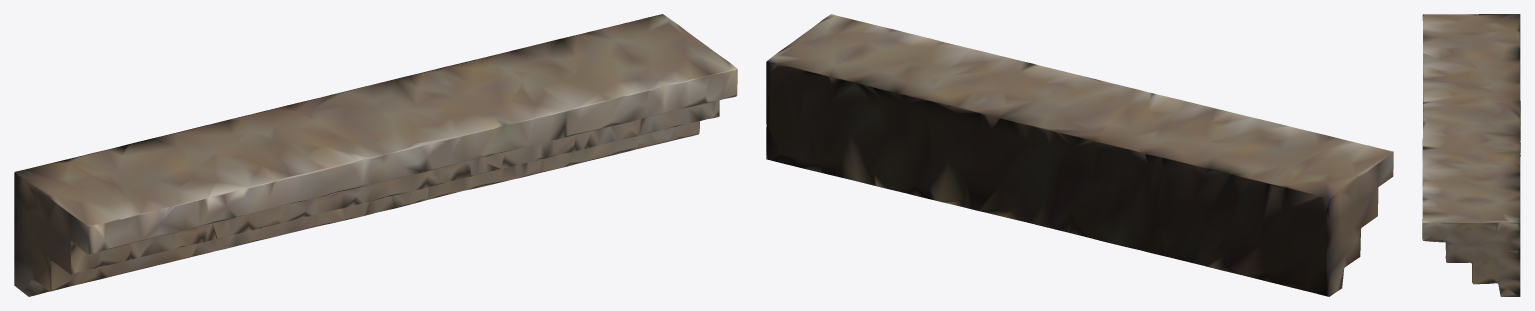
The model's file is gabion-wall.glb.
The picture shows the model from 3 angles, left to right: view 1: azimuth 30°, elevation 25°; view 2: azimuth 150°, elevation 25°; view 3: azimuth 270°, elevation 25°; orthographic projection. The views are drawn at different scales.
Parts seen in each view (by area): view 1: gabion-wall; view 2: gabion-wall; view 3: gabion-wall.
Part boxes in pixels (x1,y1,x2,y2): gabion-wall: [14, 14, 737, 296]; gabion-wall: [766, 14, 1393, 296]; gabion-wall: [1422, 14, 1520, 296].
Size of the model in its own units: 1 by 0.1684 by 0.1992.
